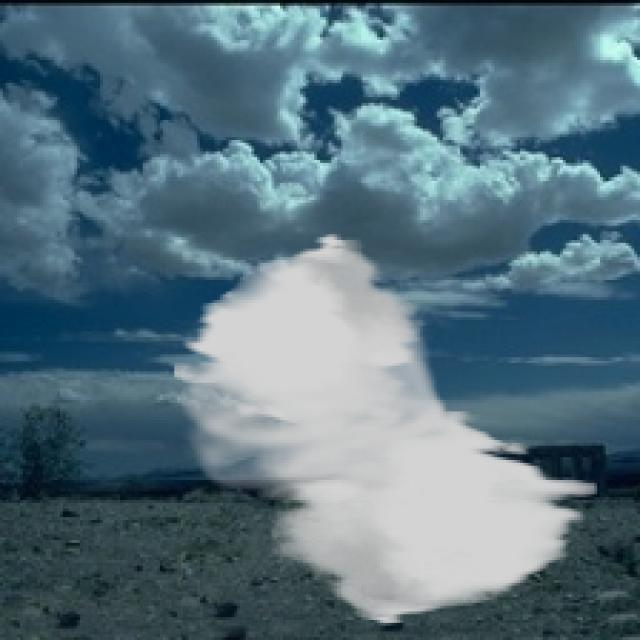smoke: (172, 231, 597, 626)
